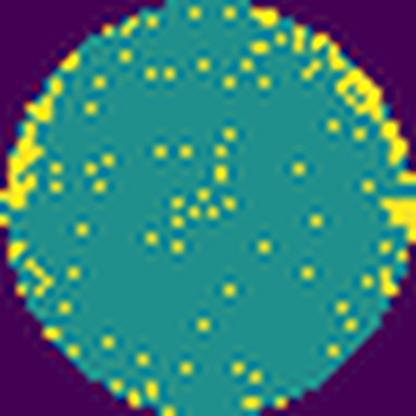Edge-Loc: (292, 13, 415, 184), (0, 54, 87, 211), (383, 196, 415, 240)
